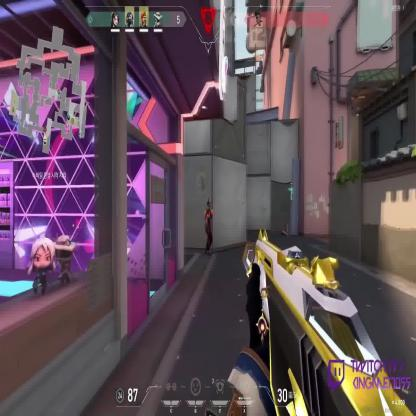enemy: (203, 202, 215, 255)
enemy_head: (206, 202, 210, 211)
